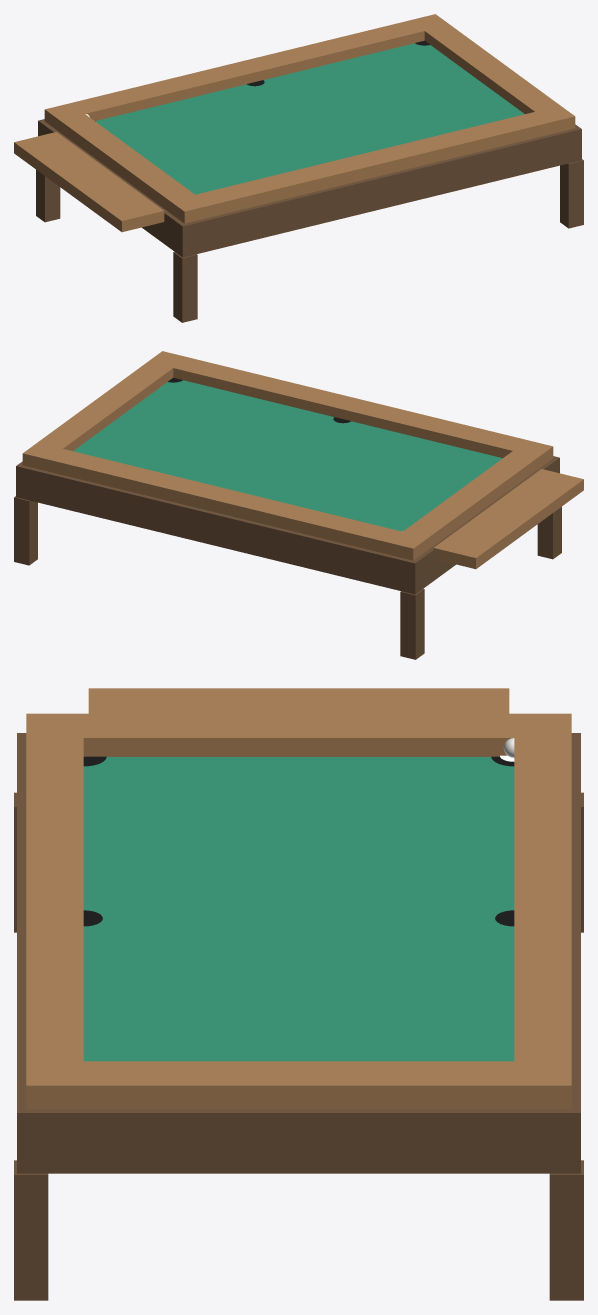
File: billard-mix.glb
3 views of the same model, one above another, from view 1: azimuth 30°, elevation 25°; view 2: azimuth 150°, elevation 25°; view 3: azimuth 270°, elevation 25° (orthographic). The views are drawn at different scales.
Parts seen in each view (by area): view 1: felt, rails, base, shelf, legs; view 2: felt, rails, base, shelf, legs; view 3: felt, rails, base, shelf, legs.
Part boxes in pixels (x1,y1,x2,y2): felt: [95, 43, 524, 194]; rails: [44, 14, 575, 223]; base: [38, 119, 581, 257]; shelf: [14, 132, 164, 232]; legs: [36, 159, 583, 322]; felt: [73, 380, 502, 531]; rails: [22, 351, 553, 560]; base: [16, 456, 559, 594]; shelf: [433, 469, 583, 569]; legs: [14, 496, 561, 659]; felt: [83, 757, 514, 1061]; rails: [26, 713, 571, 1108]; base: [17, 733, 580, 1173]; shelf: [88, 688, 509, 713]; legs: [14, 792, 583, 1300].
Bounding box in the file's own units: 20.86 × 4.84 × 11.92.
